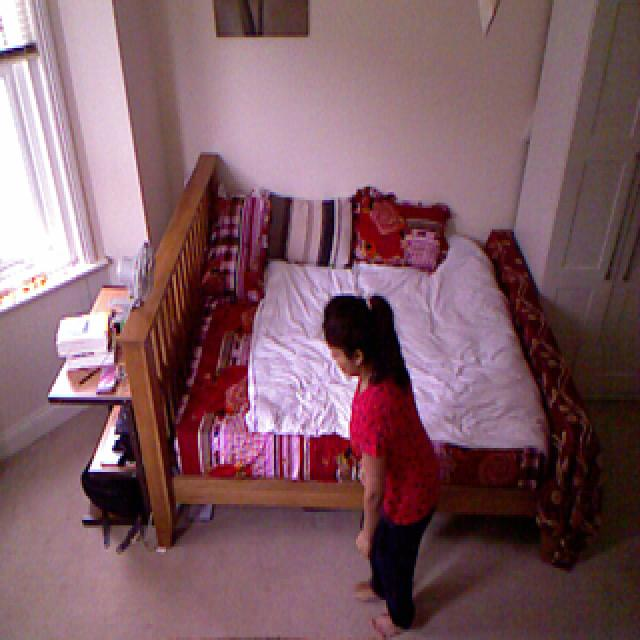standing: (321, 292, 444, 634)
